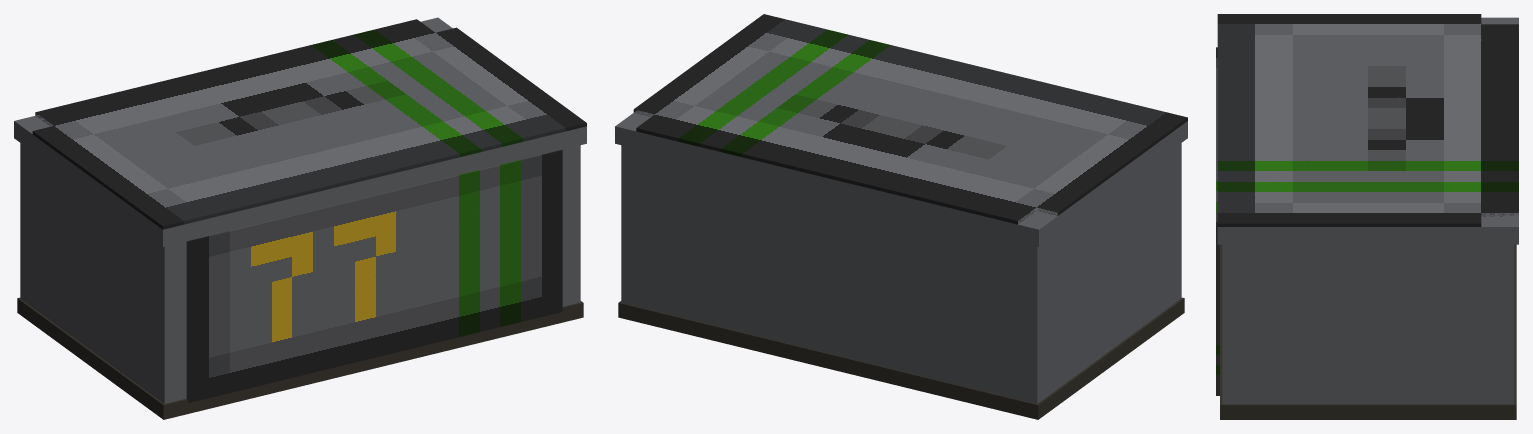
Rendered from CMU3DRMCBoxMagazinePistolM77APEmpty.glb.
3 views of the same model, side by side, from view 1: azimuth 30°, elevation 25°; view 2: azimuth 150°, elevation 25°; view 3: azimuth 270°, elevation 25° (orthographic).
Parts seen in each view (by area): view 1: Lid source artwork, Front source artwork, box lower shell, closed lid slab, lower fold; view 2: box lower shell, Lid source artwork, closed lid slab, lower fold; view 3: Lid source artwork, box lower shell, closed lid slab, lower fold, Front source artwork.
Boxes of the visible parts, x1,y1,x2,y2 form: Lid source artwork: [32, 19, 586, 229]; Front source artwork: [186, 150, 562, 403]; box lower shell: [20, 143, 580, 403]; closed lid slab: [14, 17, 586, 246]; lower fold: [17, 297, 583, 419]; box lower shell: [621, 143, 1181, 403]; Lid source artwork: [633, 14, 1187, 224]; closed lid slab: [615, 110, 1187, 246]; lower fold: [618, 297, 1184, 419]; Lid source artwork: [1217, 14, 1518, 226]; box lower shell: [1222, 244, 1514, 404]; closed lid slab: [1217, 17, 1518, 244]; lower fold: [1220, 244, 1516, 419]; Front source artwork: [1216, 47, 1219, 395].
Bounding box in the file's own units: 0.637 × 0.28 × 0.389.
5 materials, 2 textured.
